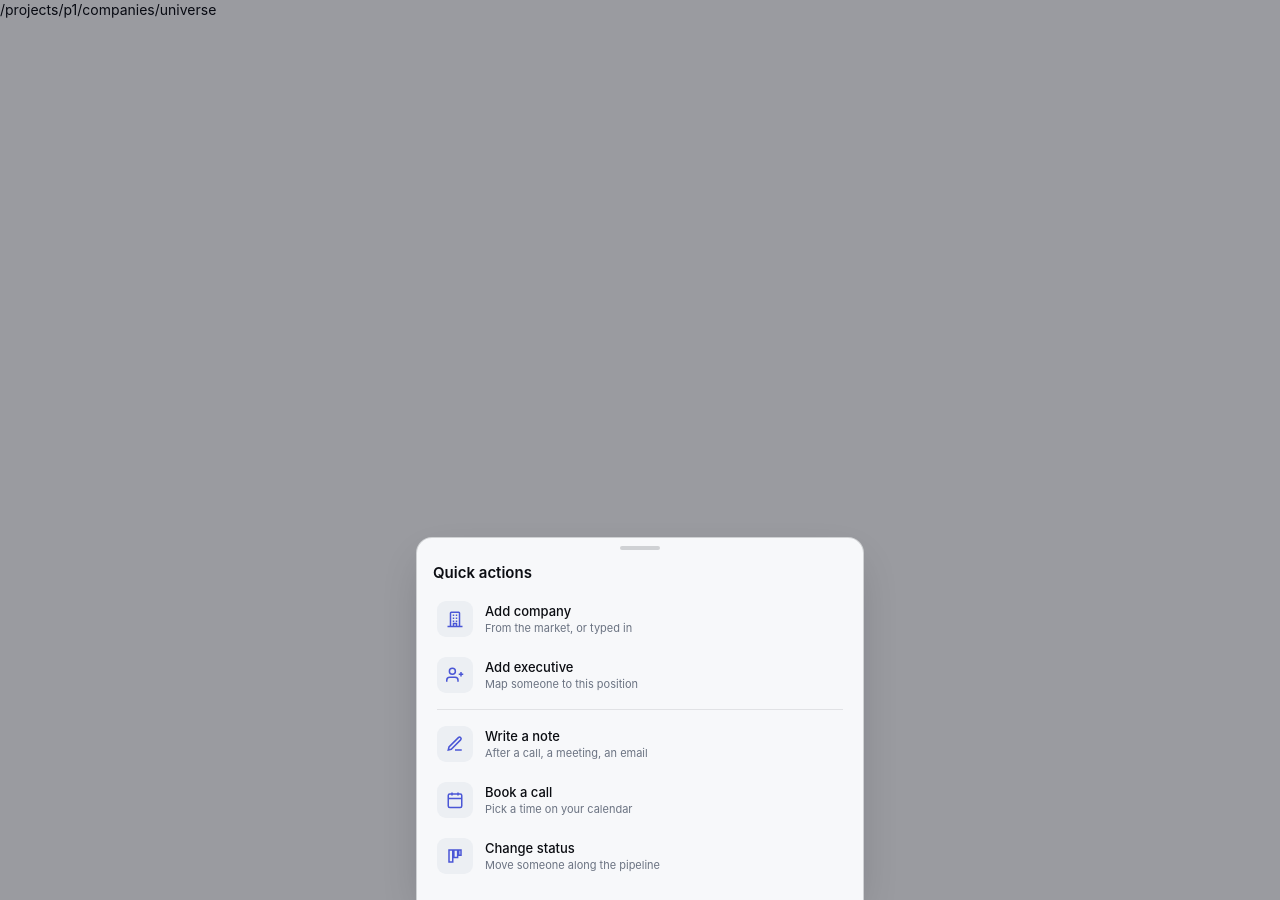
Scenario: PositionQuickActions › sends Add company to the Companies page's own add form
Click the button "Add company From the market, or typed in". click: {"x": 455, "y": 619}
box: [425,591,855,647]
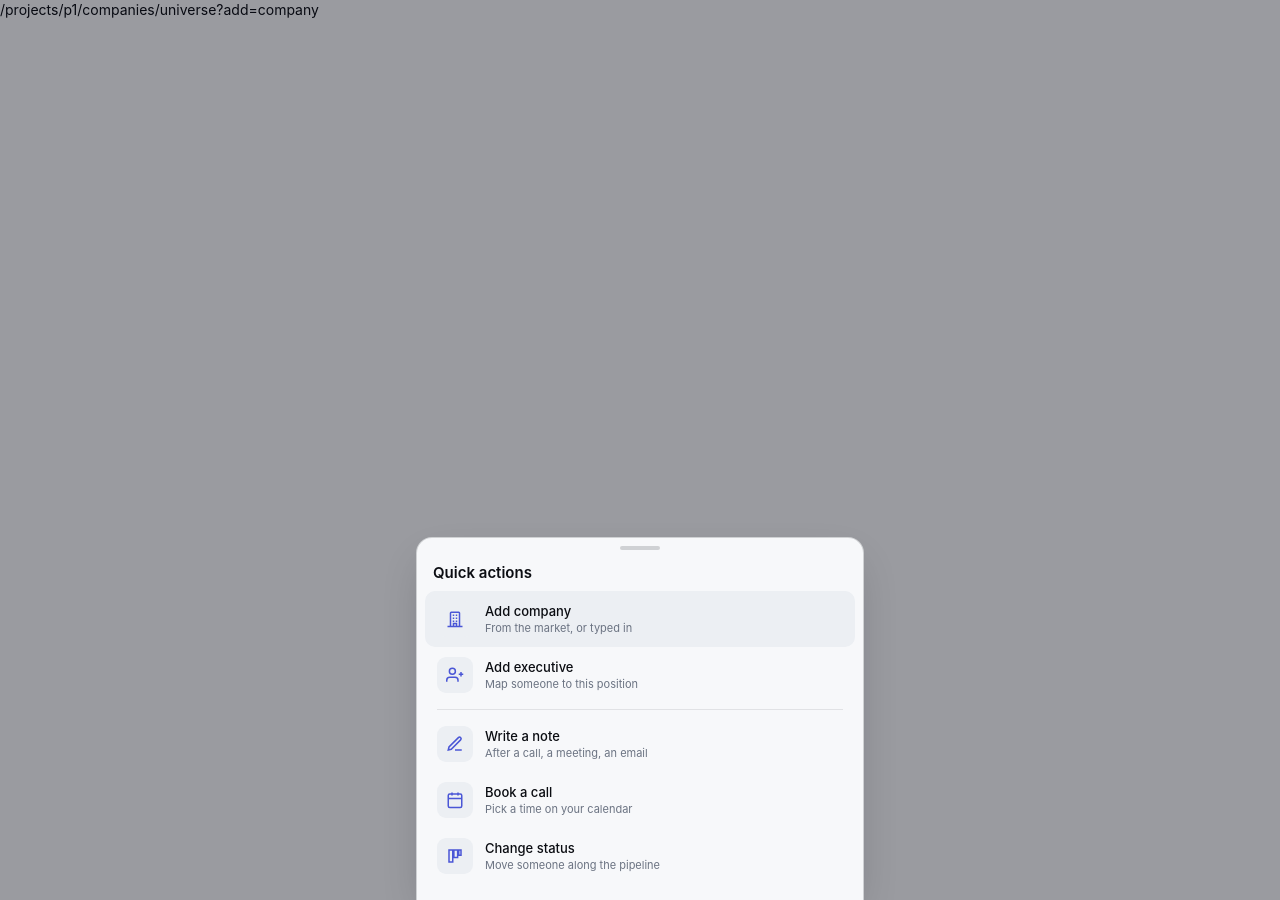
Check: the text with test id "landed" reads "/projects/p1/companies/universe?add=company", box [0,1,319,18]
